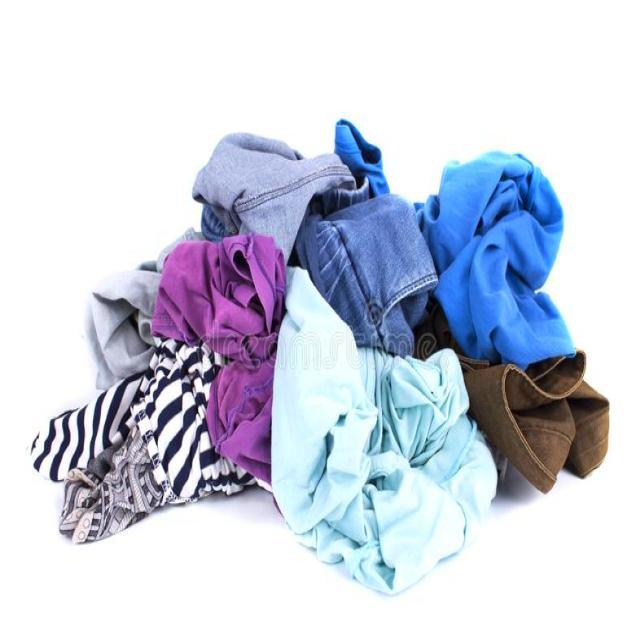clothes: (195, 185, 620, 598)
